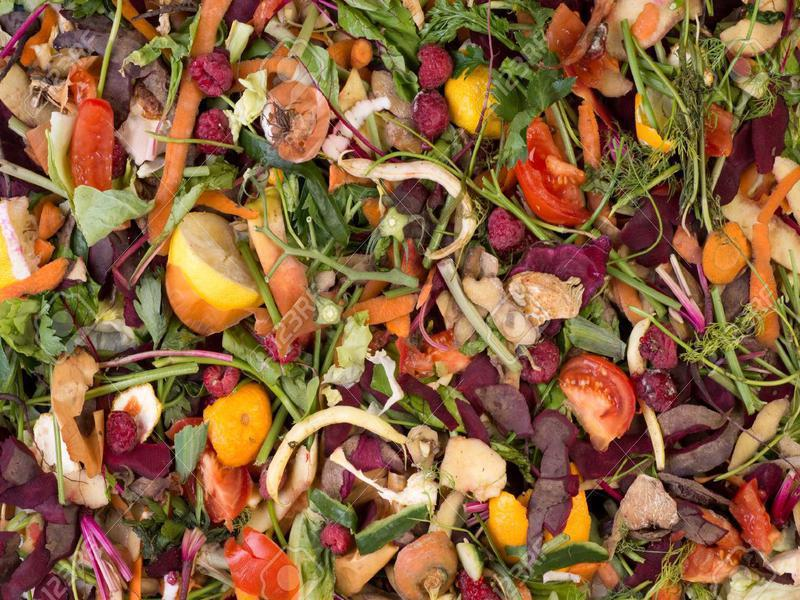vegetation: (4, 4, 799, 599)
